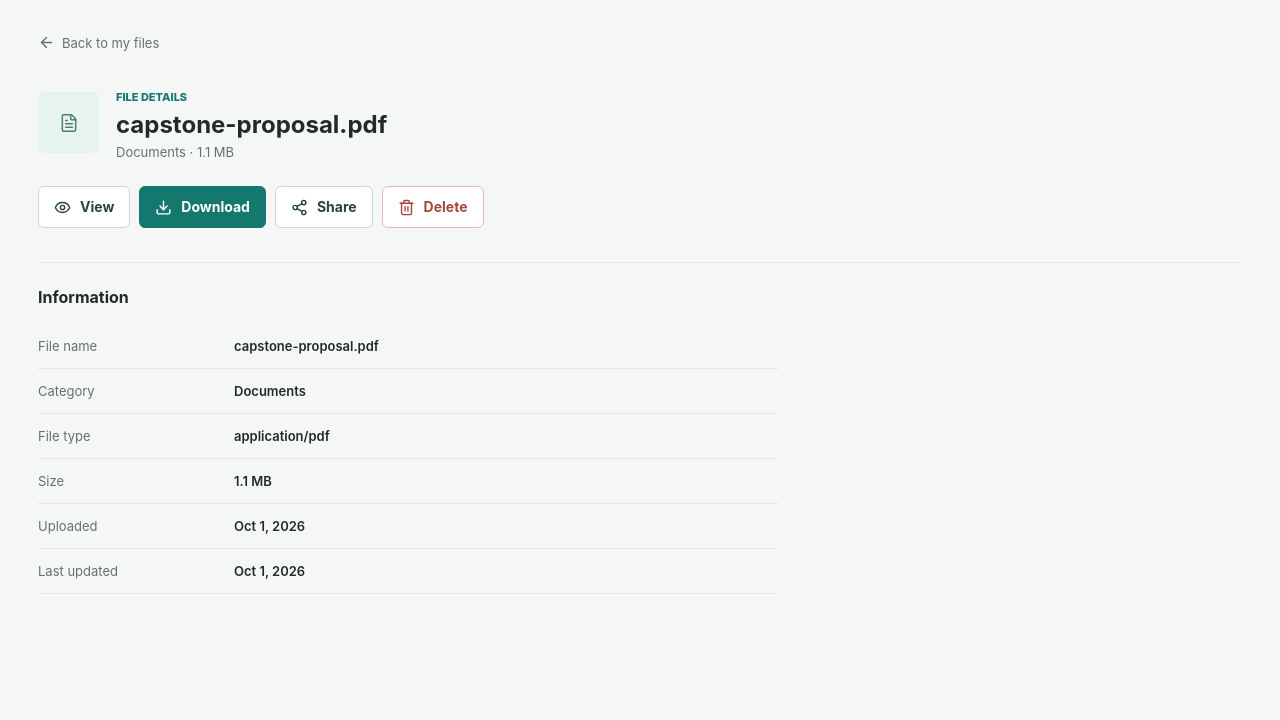
Test: file details › returns to the library after deleting the open file
Expected: the heading "capstone-proposal.pdf" is shown, [116,110,387,139]
What coordinates should you click on to do the following:
click the button "Delete"
I would click on:
 (433, 207)
Its box is [382,186,484,228].
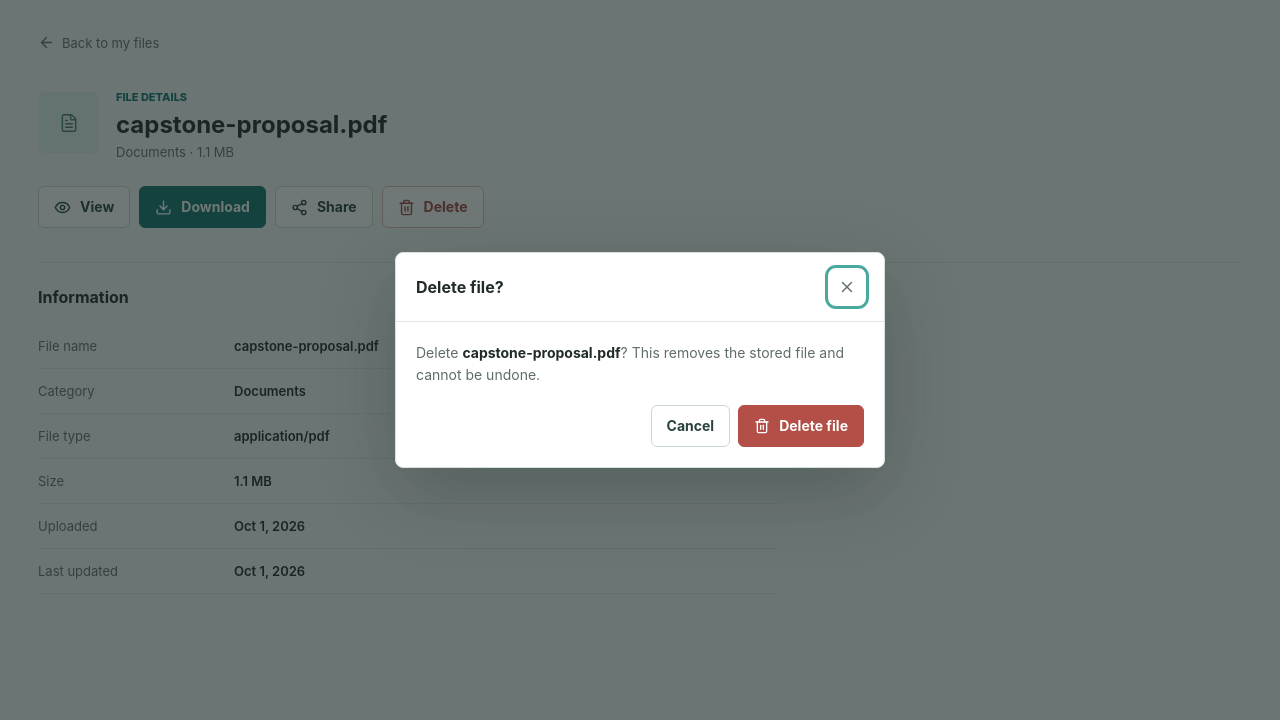
What coordinates should you click on to do the following:
click the button "Delete file"
I would click on:
 (801, 426)
Its box is [738,405,864,447].
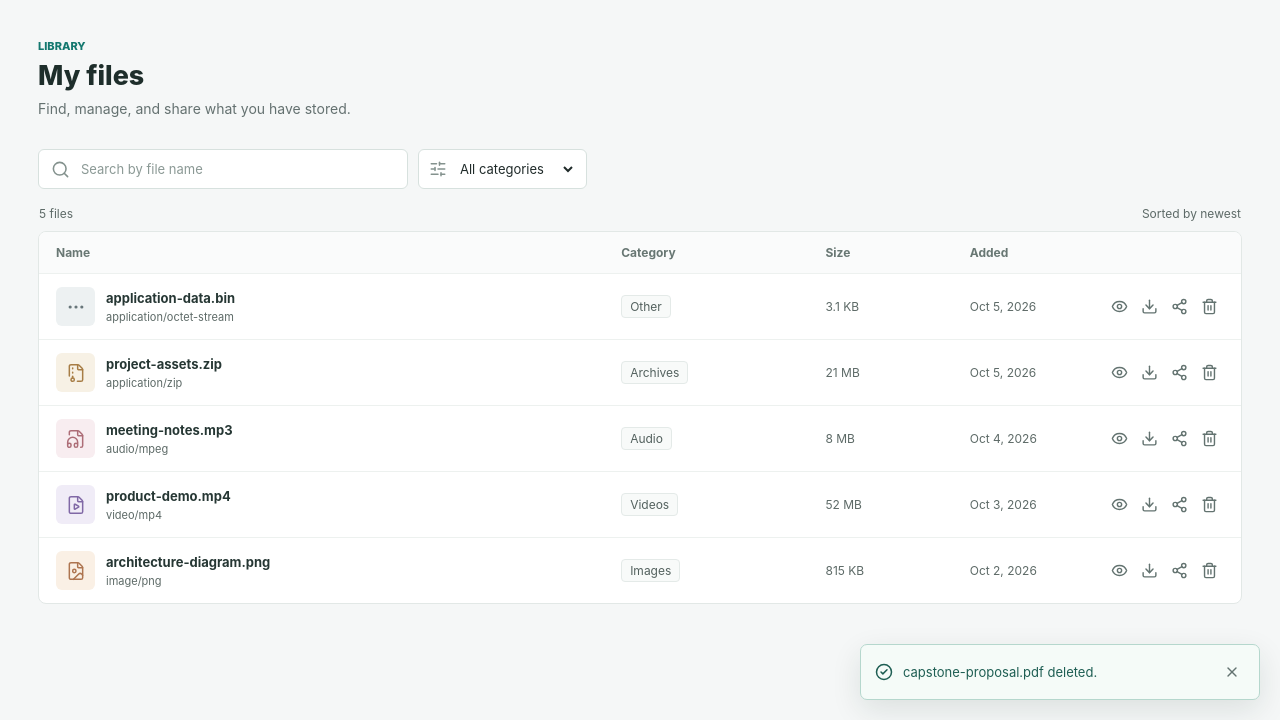
Now the heading "My files" is shown, box [38,59,144,91]
